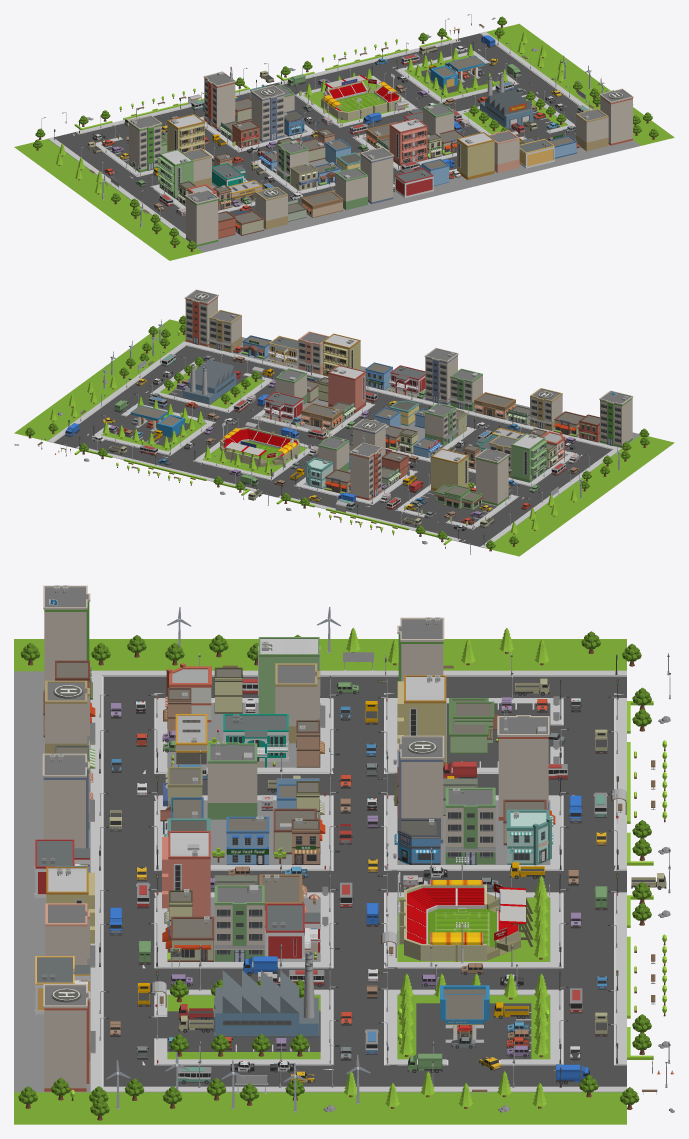
Rendered from city.mobile.glb.
The picture shows the model from 3 angles, top to bottom: view 1: azimuth 30°, elevation 25°; view 2: azimuth 150°, elevation 25°; view 3: azimuth 270°, elevation 25°; orthographic projection. The views are drawn at different scales.
Visible parts, largest first — view 1: Building Sky_big_color01.001, Vehicle_Car_color03.001; view 2: Building Sky_big_color01.001, Vehicle_Car_color03.001; view 3: Building Sky_big_color01.001, Vehicle_Car_color03.001.
Part boxes in pixels (bbox=[...]): Building Sky_big_color01.001: bbox=[14, 14, 674, 260]; Vehicle_Car_color03.001: bbox=[92, 46, 565, 200]; Building Sky_big_color01.001: bbox=[14, 289, 674, 556]; Vehicle_Car_color03.001: bbox=[92, 371, 575, 530]; Building Sky_big_color01.001: bbox=[14, 585, 674, 1124]; Vehicle_Car_color03.001: bbox=[111, 698, 607, 1083].
Bounding box in the file's own units: 300 × 32.67 × 172.
Materials: 1 (1 with a texture image).
